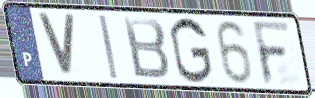6: (215, 18, 255, 87)
B: (121, 15, 173, 82)
F: (250, 19, 294, 88)
G: (168, 16, 215, 86)
I: (96, 13, 120, 81)
V: (34, 11, 77, 80)
